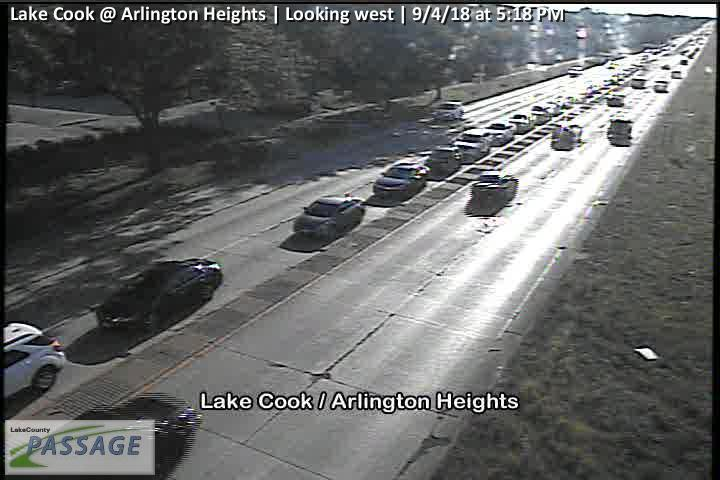SUV: (373, 160, 429, 202), (470, 171, 518, 206), (449, 127, 491, 163), (427, 145, 463, 180), (485, 120, 515, 147), (431, 101, 466, 123), (510, 111, 535, 136), (530, 104, 551, 125)
Sedan: (94, 258, 222, 331), (294, 194, 363, 241)
